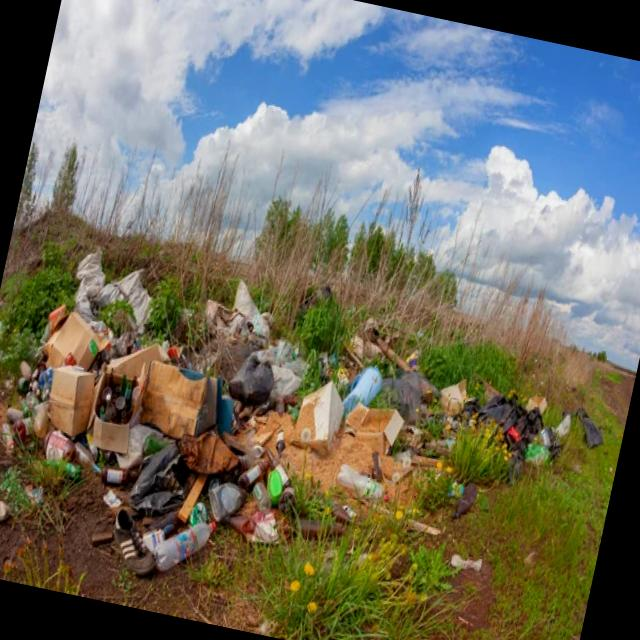garbage: (10, 233, 508, 589)
